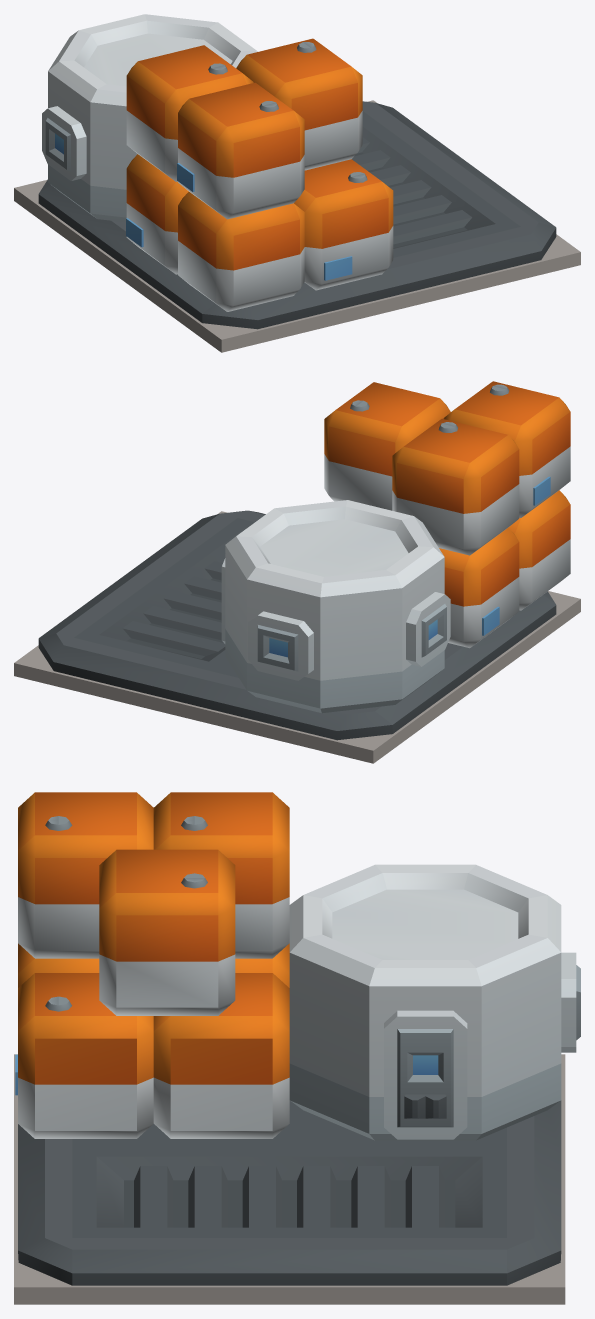
Rendered from cargo_depot_medium.glb.
The picture shows the model from 3 angles, top to bottom: view 1: azimuth 30°, elevation 25°; view 2: azimuth 150°, elevation 25°; view 3: azimuth 270°, elevation 25°; orthographic projection. The views are drawn at different scales.
Visible parts, largest first — view 1: Cargodepot_Medium; view 2: Cargodepot_Medium; view 3: Cargodepot_Medium.
Part boxes in pixels (left/top/right/bottom): Cargodepot_Medium: left=14, top=14, right=580, bottom=352; Cargodepot_Medium: left=14, top=381, right=580, bottom=763; Cargodepot_Medium: left=14, top=792, right=580, bottom=1304.
Bounding box in the file's own units: 0.2982 × 0.1701 × 0.2982.
Materials: 1 (1 with a texture image).
